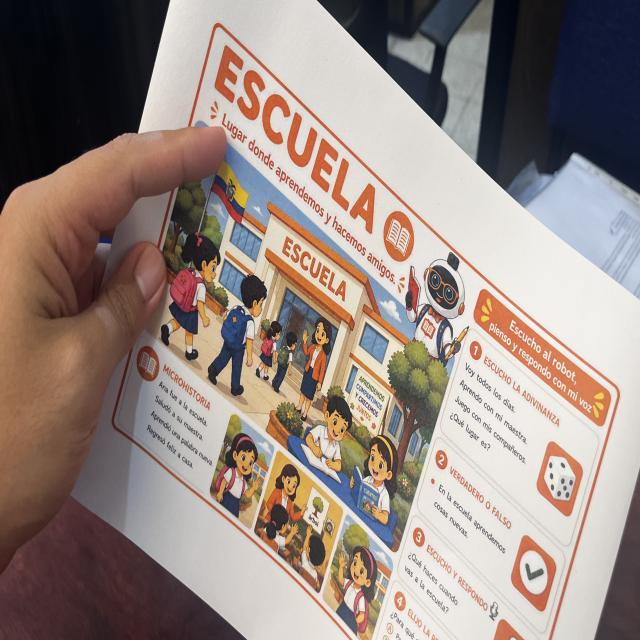escuela: (108, 18, 623, 640)
